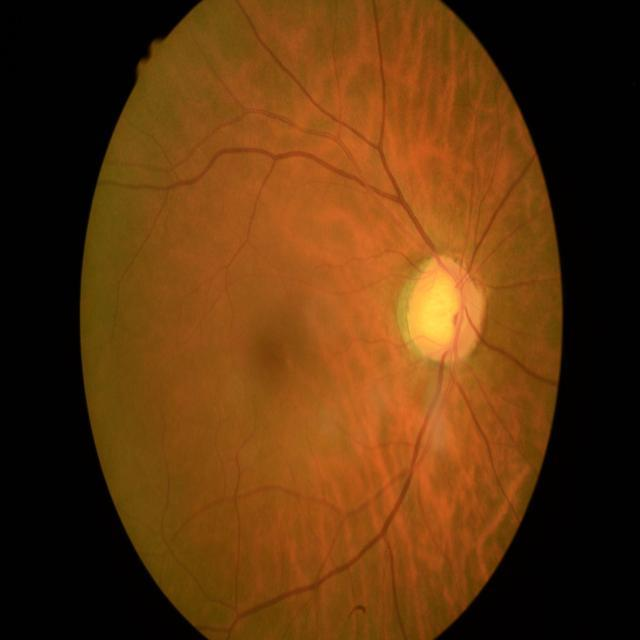cup: (422, 272, 466, 350)
disk: (406, 255, 484, 366)
